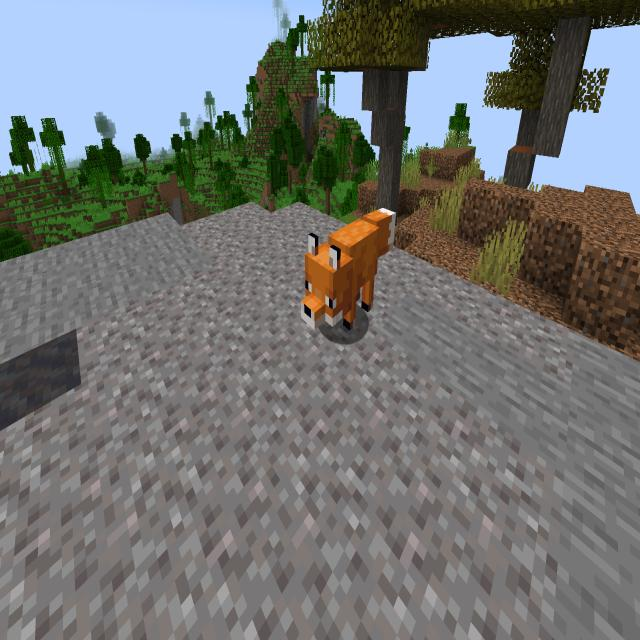Fox: (294, 198, 404, 346)
